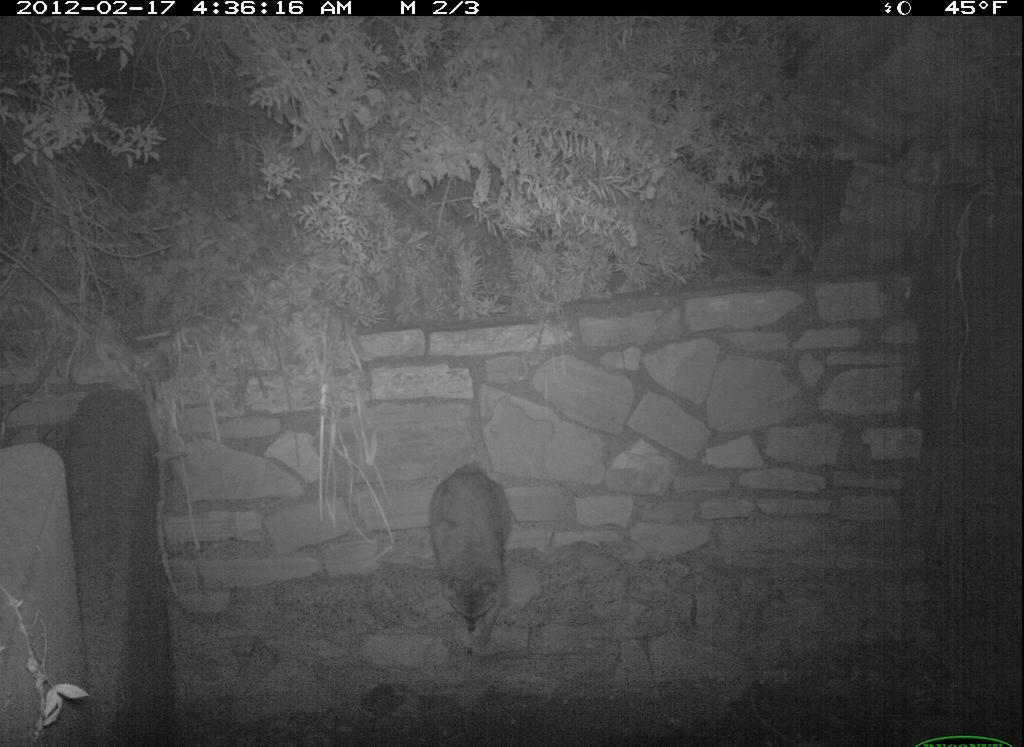raccoon: (422, 456, 520, 669)
